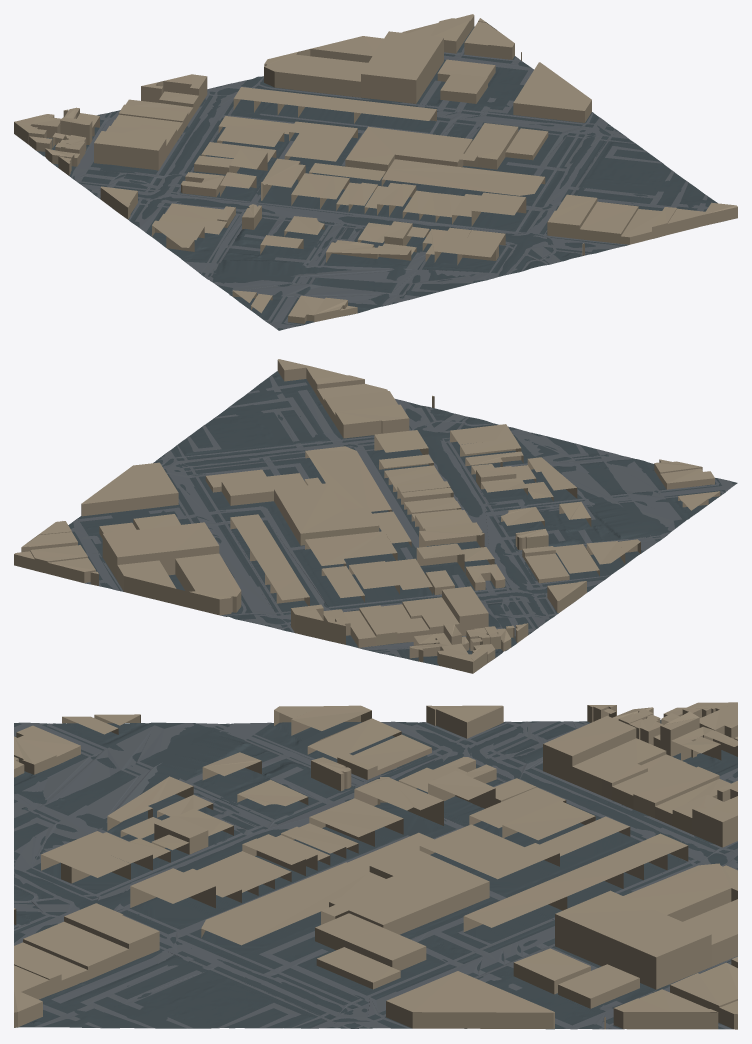
File: epsg26910-1439-10888.lod0.glb
3 views of the same model, one above another, from view 1: azimuth 30°, elevation 25°; view 2: azimuth 150°, elevation 25°; view 3: azimuth 270°, elevation 25° (orthographic). The views are drawn at different scales.
Visible parts, largest first — view 1: epsg26910-1439-10888-lod0; view 2: epsg26910-1439-10888-lod0; view 3: epsg26910-1439-10888-lod0.
Part boxes in pixels (<box>): epsg26910-1439-10888-lod0: <box>14,14,737,330</box>; epsg26910-1439-10888-lod0: <box>14,359,737,673</box>; epsg26910-1439-10888-lod0: <box>14,702,737,1029</box>.
Size of the model in its own units: 384 by 20.48 by 384.
